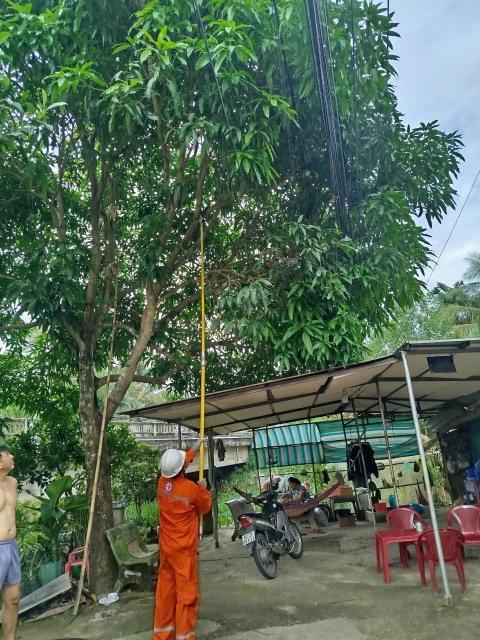gloves: (187, 434, 214, 452), (196, 476, 216, 490)
helmet: (153, 447, 192, 484)
